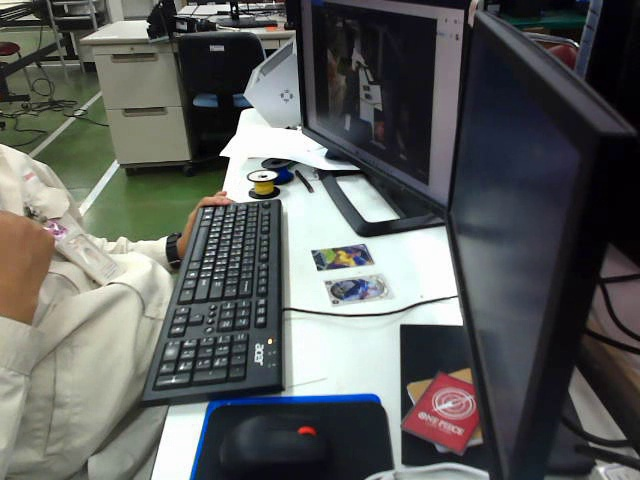can: (317, 273, 391, 303), (304, 240, 376, 268)
